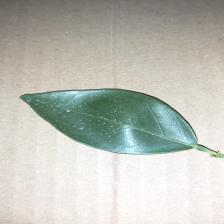healthy: (16, 87, 202, 156)
